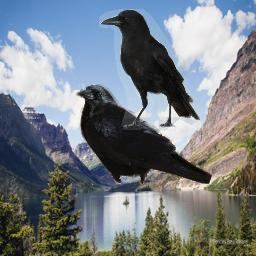Crow: (75, 84, 212, 184), (99, 9, 200, 130)
